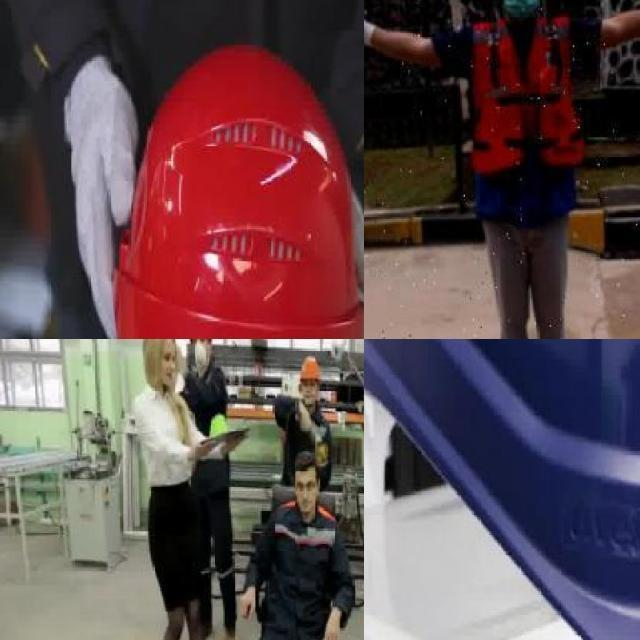apron: (62, 52, 142, 339), (364, 0, 376, 54)
